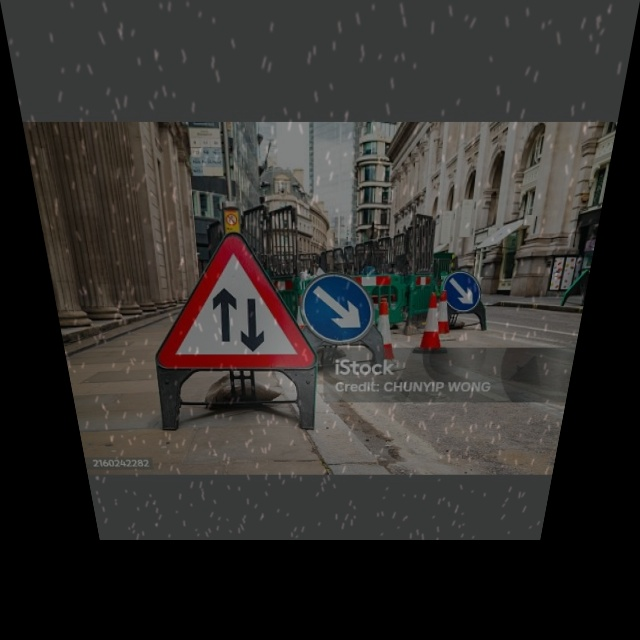Mandatory_Two_Way_Traffic: (150, 230, 312, 373)
